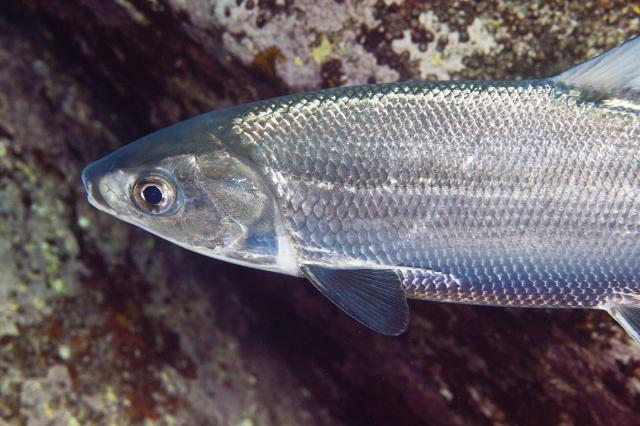Mulut: (34, 128, 144, 264)
Sirip Dada: (283, 239, 429, 348)
